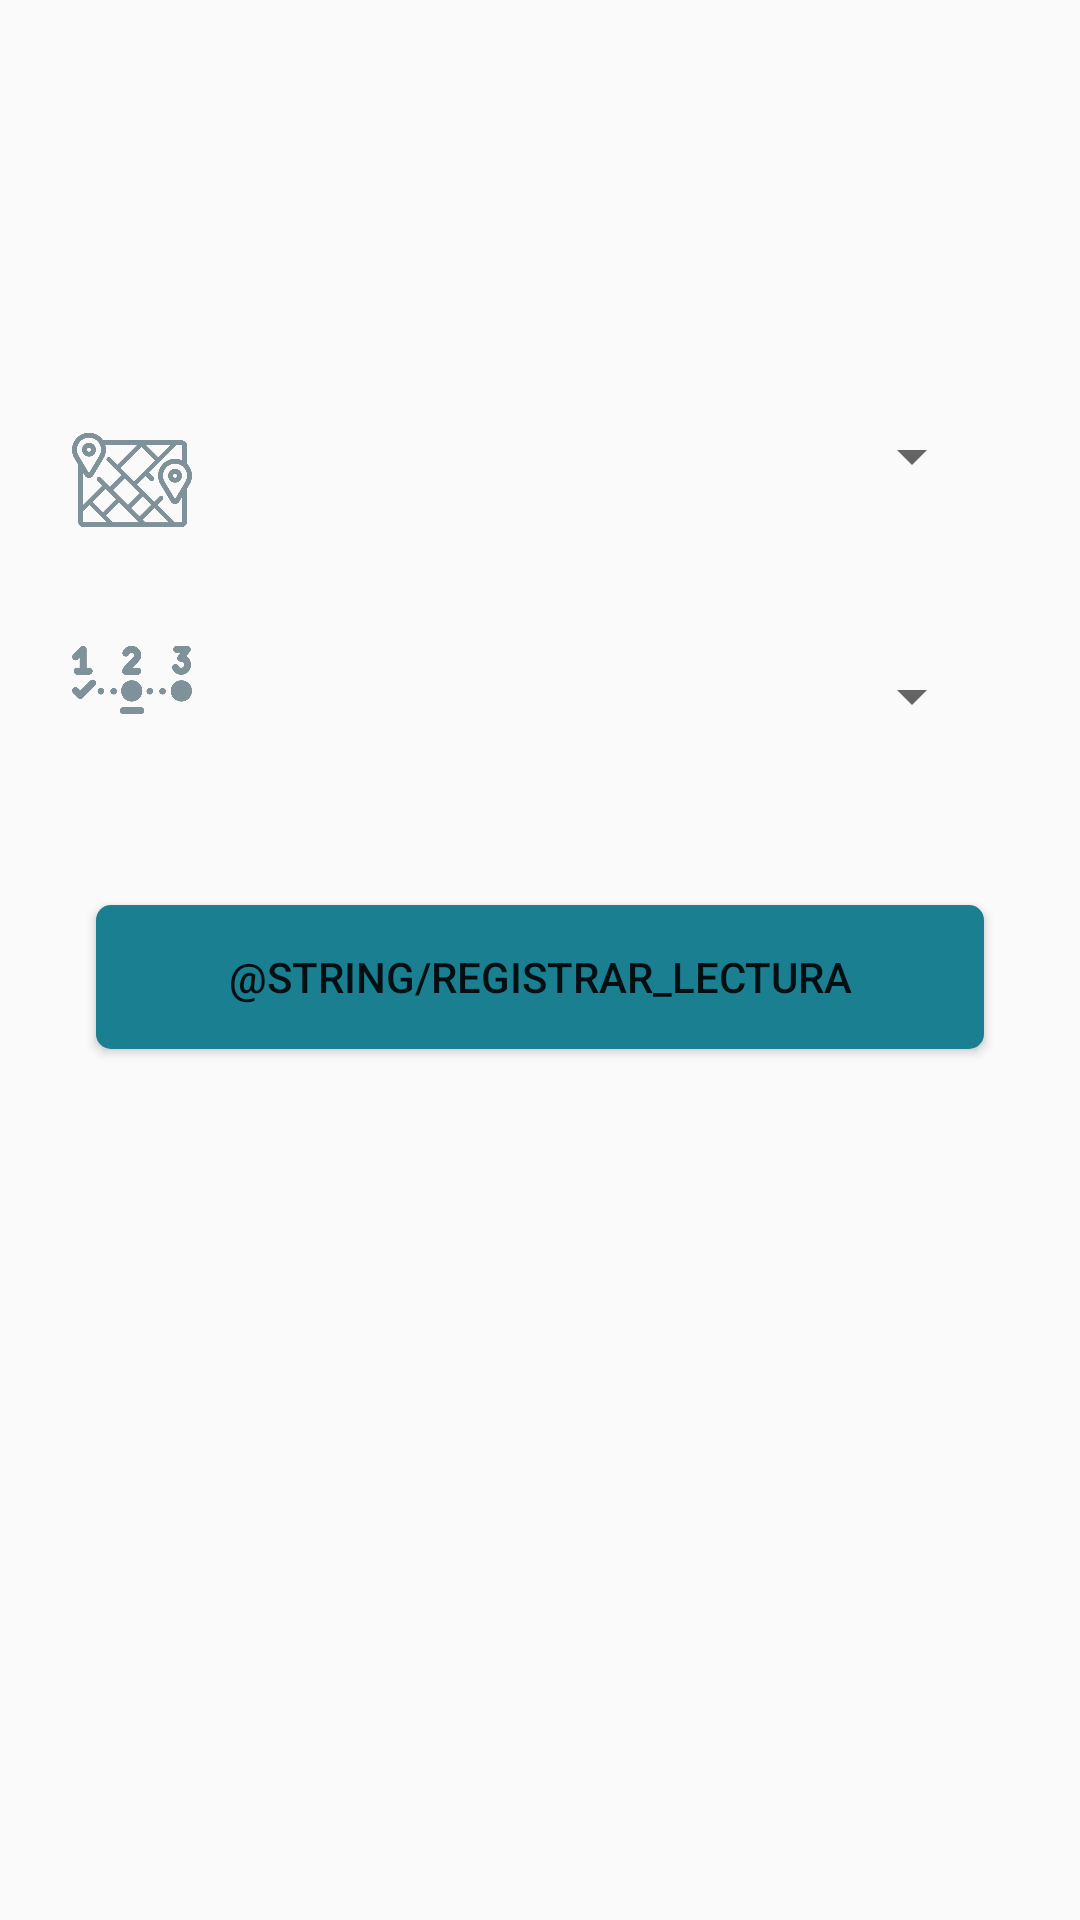

Point at icon controls on the screen. Image size 1080×1920, points as point (x, y).
sector: point (132, 480)
